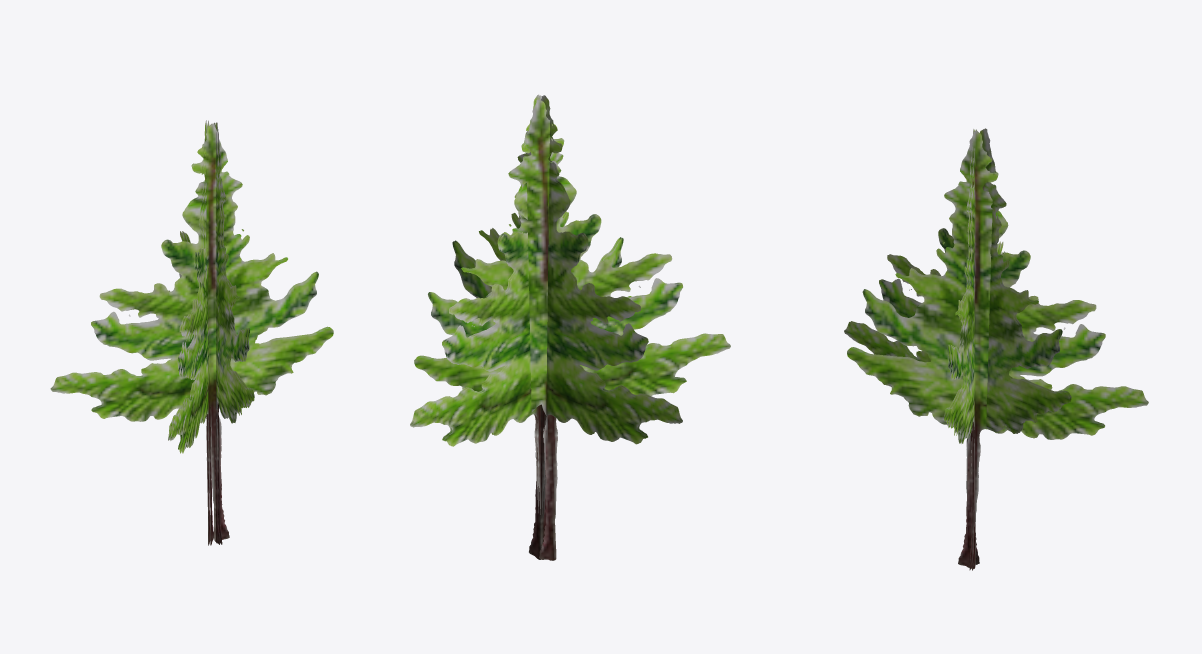
Rendered from Bush4.fbx.
The picture shows the model from 3 angles, left to right: view 1: azimuth 30°, elevation 25°; view 2: azimuth 150°, elevation 25°; view 3: azimuth 270°, elevation 25°; orthographic projection. The views are drawn at different scales.
Parts seen in each view (by area): view 1: Bush4; view 2: Bush4; view 3: Bush4.
Part boxes in pixels (<box>): Bush4: <box>50,120,333,545</box>; Bush4: <box>410,94,730,560</box>; Bush4: <box>844,128,1148,570</box>.
Bounding box in the file's own units: 583 × 849 × 615.
1 material, 1 textured.
